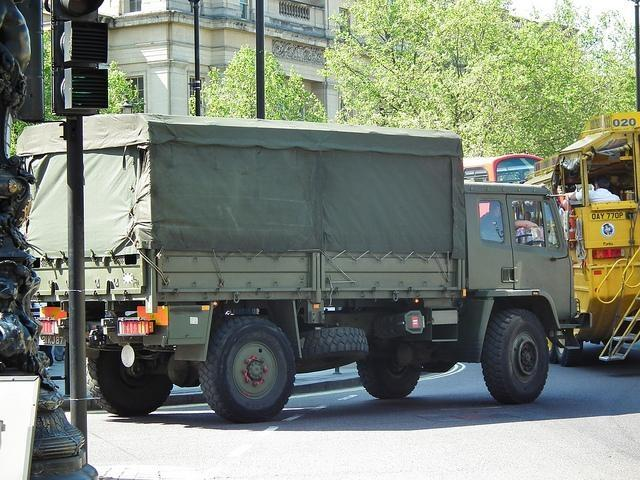truck: (84, 116, 580, 416)
